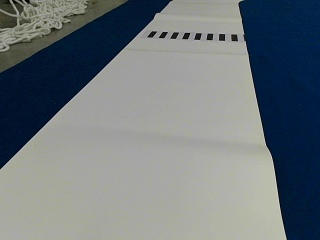crosswalk: (146, 30, 238, 41)
